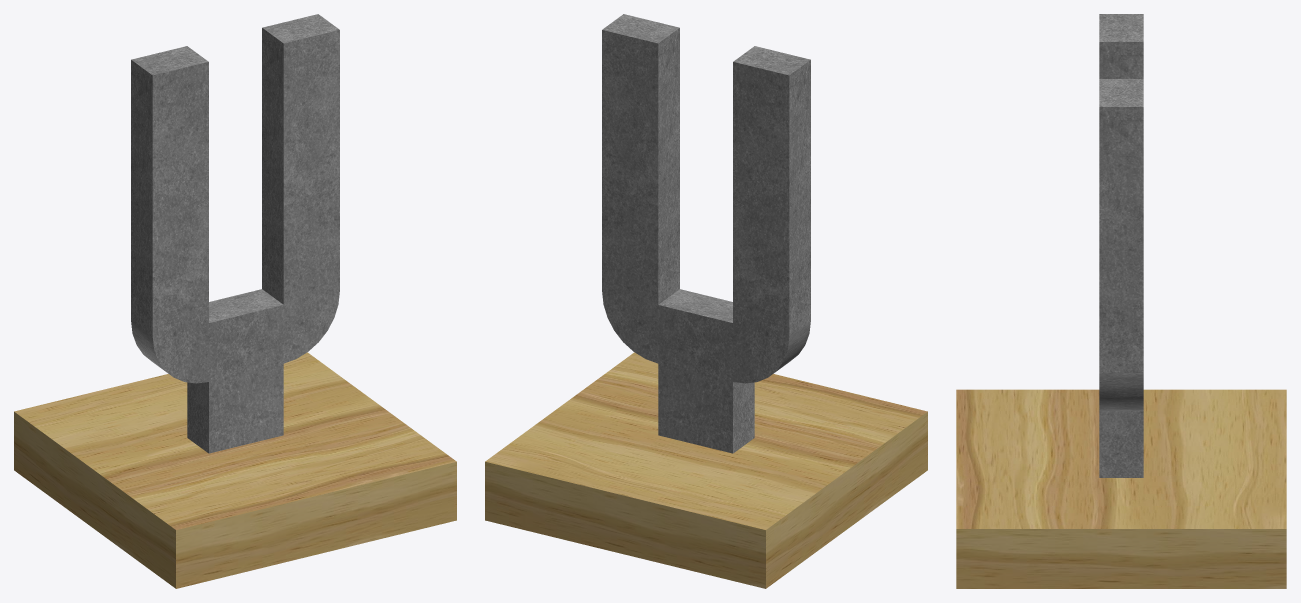
Rendered from fork.obj.
The picture shows the model from 3 angles, left to right: view 1: azimuth 30°, elevation 25°; view 2: azimuth 150°, elevation 25°; view 3: azimuth 270°, elevation 25°; orthographic projection.
Visible parts, largest first — view 1: object 2, mesh 1 fork; view 2: object 2, mesh 1 fork; view 3: object 2, mesh 1 fork.
Part boxes in pixels (left/top/right/bottom): object 2: left=14, top=352, right=456, bottom=588; mesh 1 fork: left=131, top=14, right=339, bottom=453; object 2: left=485, top=352, right=927, bottom=588; mesh 1 fork: left=602, top=14, right=810, bottom=453; object 2: left=956, top=389, right=1286, bottom=588; mesh 1 fork: left=1099, top=14, right=1143, bottom=477.
Bounding box in the file's own units: 0.75 × 1.15 × 0.75.
2 materials, 2 textured.
